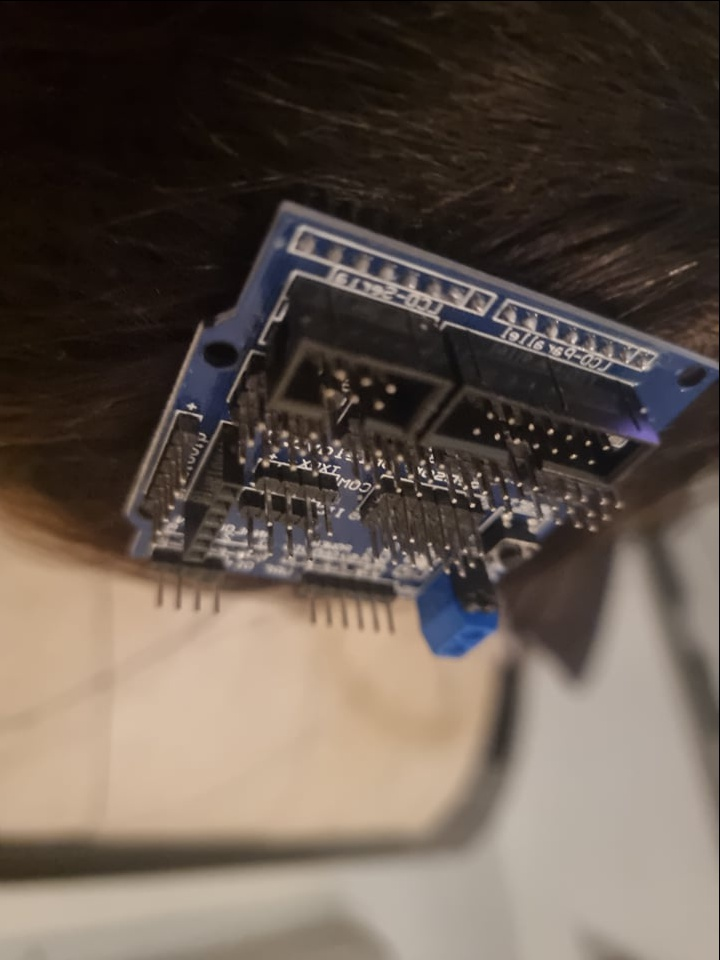5V EXPANSION: (120, 197, 720, 657)
